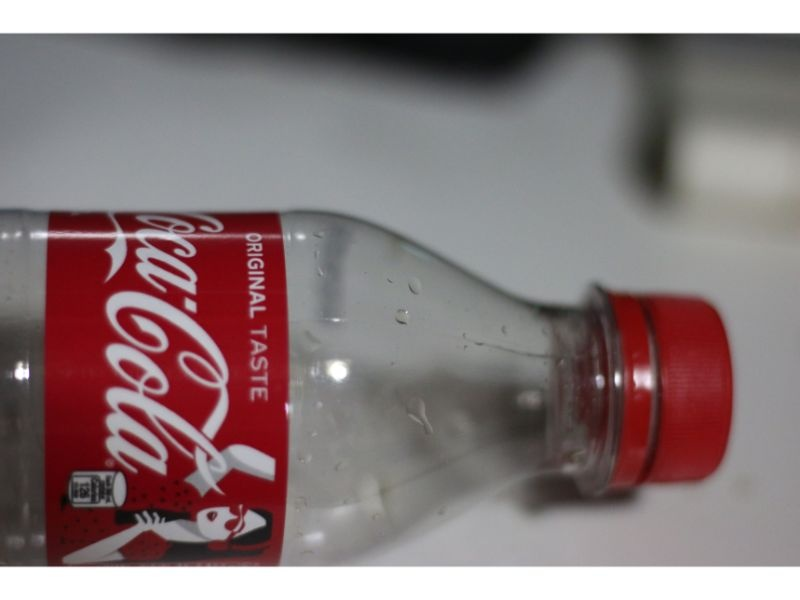PET #1: (1, 205, 739, 569)
